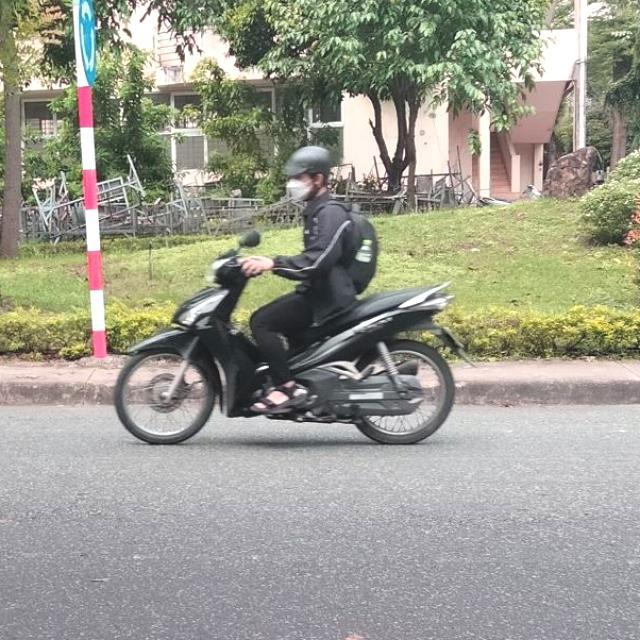Helmet: (278, 143, 336, 204)
